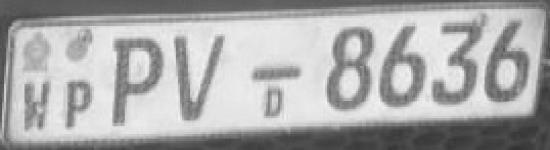-: (245, 59, 311, 85)
3: (428, 17, 484, 113)
6: (377, 20, 430, 114), (484, 14, 533, 107)
8: (322, 23, 379, 118)
P: (104, 33, 169, 129), (60, 75, 99, 134)
V: (168, 27, 236, 130)
W: (20, 80, 55, 133)
